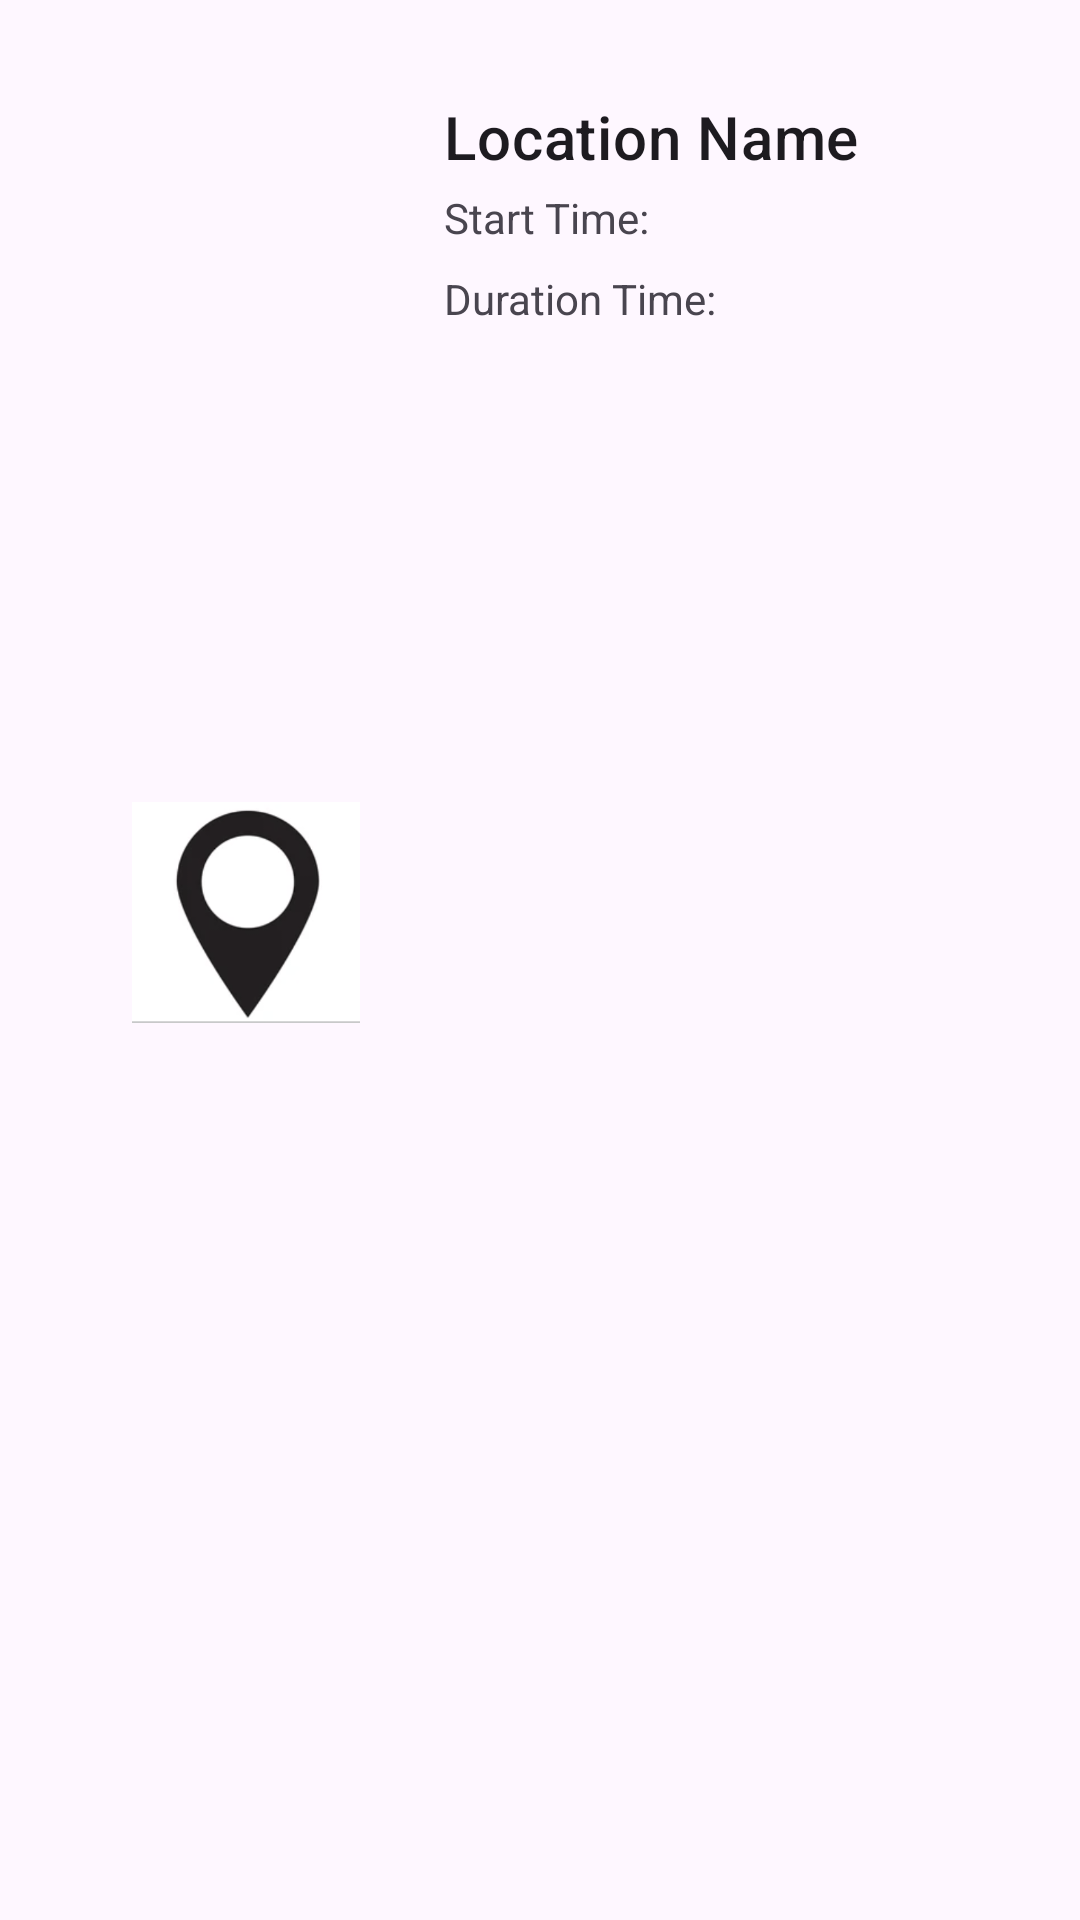

Icon bounding boxes for this 1080×1920 phone screenshot, format (x1, y1, x2, y2):
destination: (132, 810, 360, 1023)
